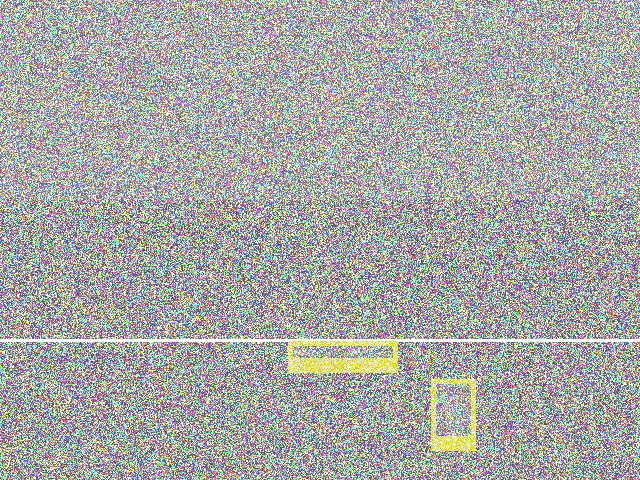car: (425, 301, 546, 384)
